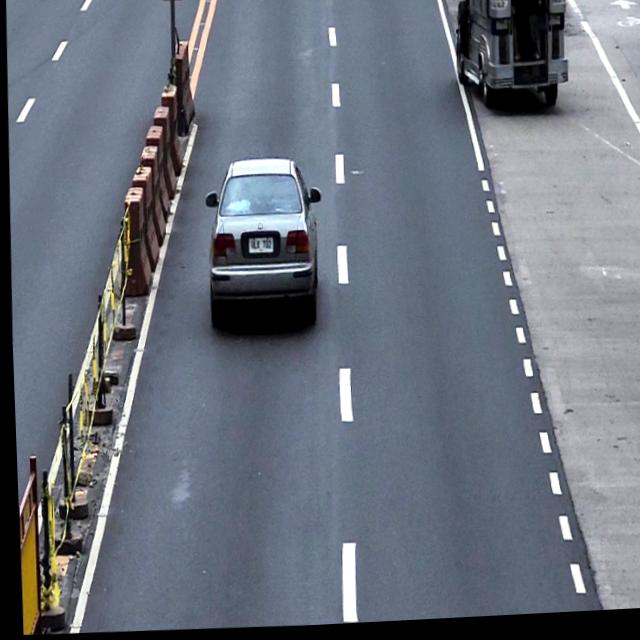Car: (199, 155, 326, 339)
Jeep: (451, 0, 574, 128)
License-Plate: (244, 237, 273, 259)
